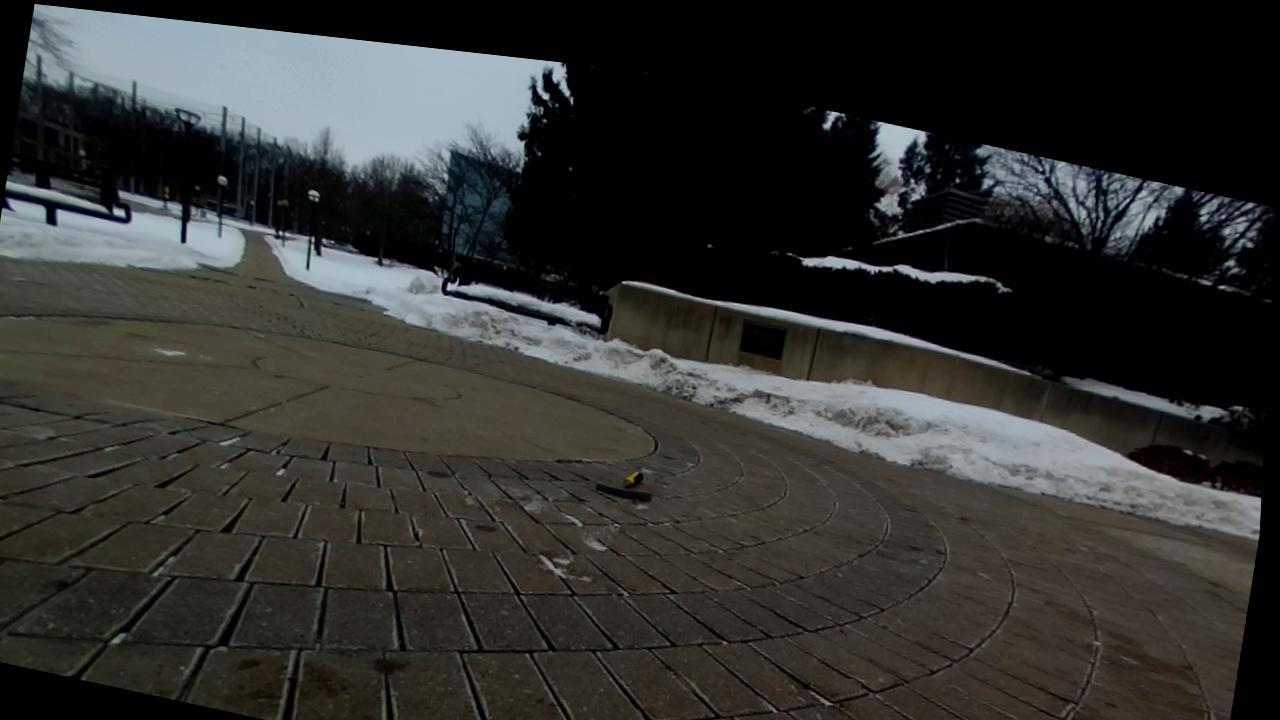pick: (596, 471, 649, 499)
